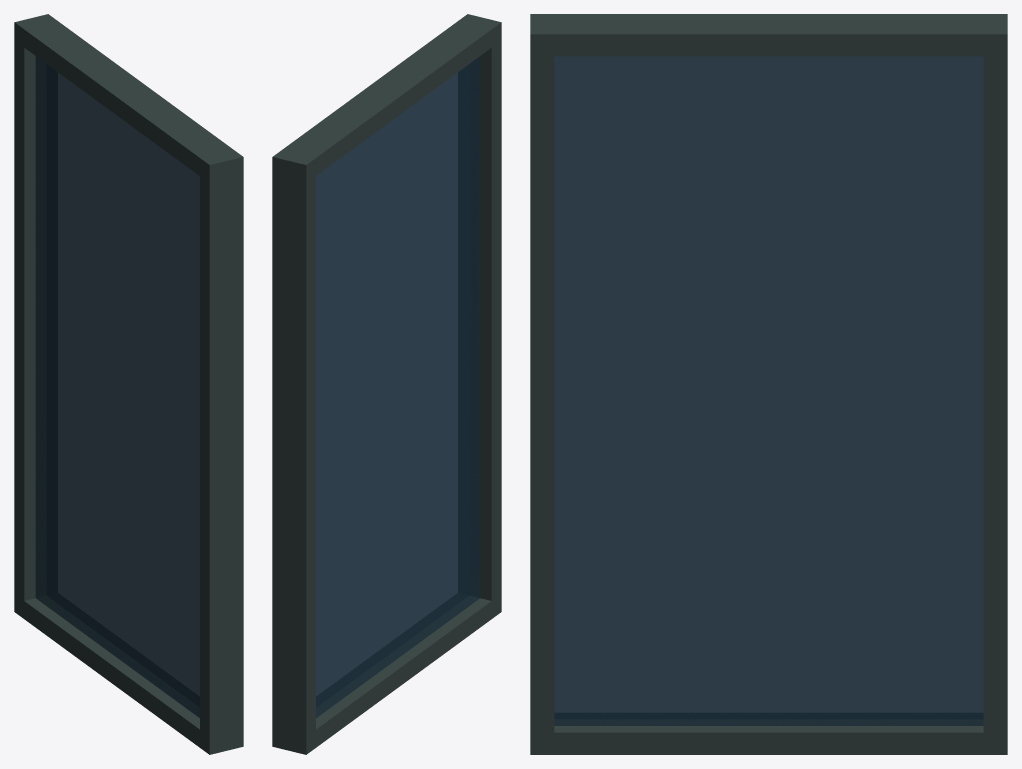
Rendered from outer wall glass.fbx.
3 views of the same model, side by side, from view 1: azimuth 30°, elevation 25°; view 2: azimuth 150°, elevation 25°; view 3: azimuth 270°, elevation 25° (orthographic). The views are drawn at different scales.
Parts seen in each view (by area): view 1: Cube.071, Cube.070; view 2: Cube.071, Cube.070; view 3: Cube.071, Cube.070.
Boxes of the visible parts, x1=… form: Cube.071: x1=35, y1=56, x2=199, y2=717; Cube.070: x1=14, y1=14, x2=243, y2=754; Cube.071: x1=316, y1=56, x2=480, y2=717; Cube.070: x1=272, y1=14, x2=501, y2=754; Cube.071: x1=554, y1=56, x2=983, y2=725; Cube.070: x1=530, y1=14, x2=1007, y2=754.
Bounding box in the file's own units: 30 × 500 × 300.
